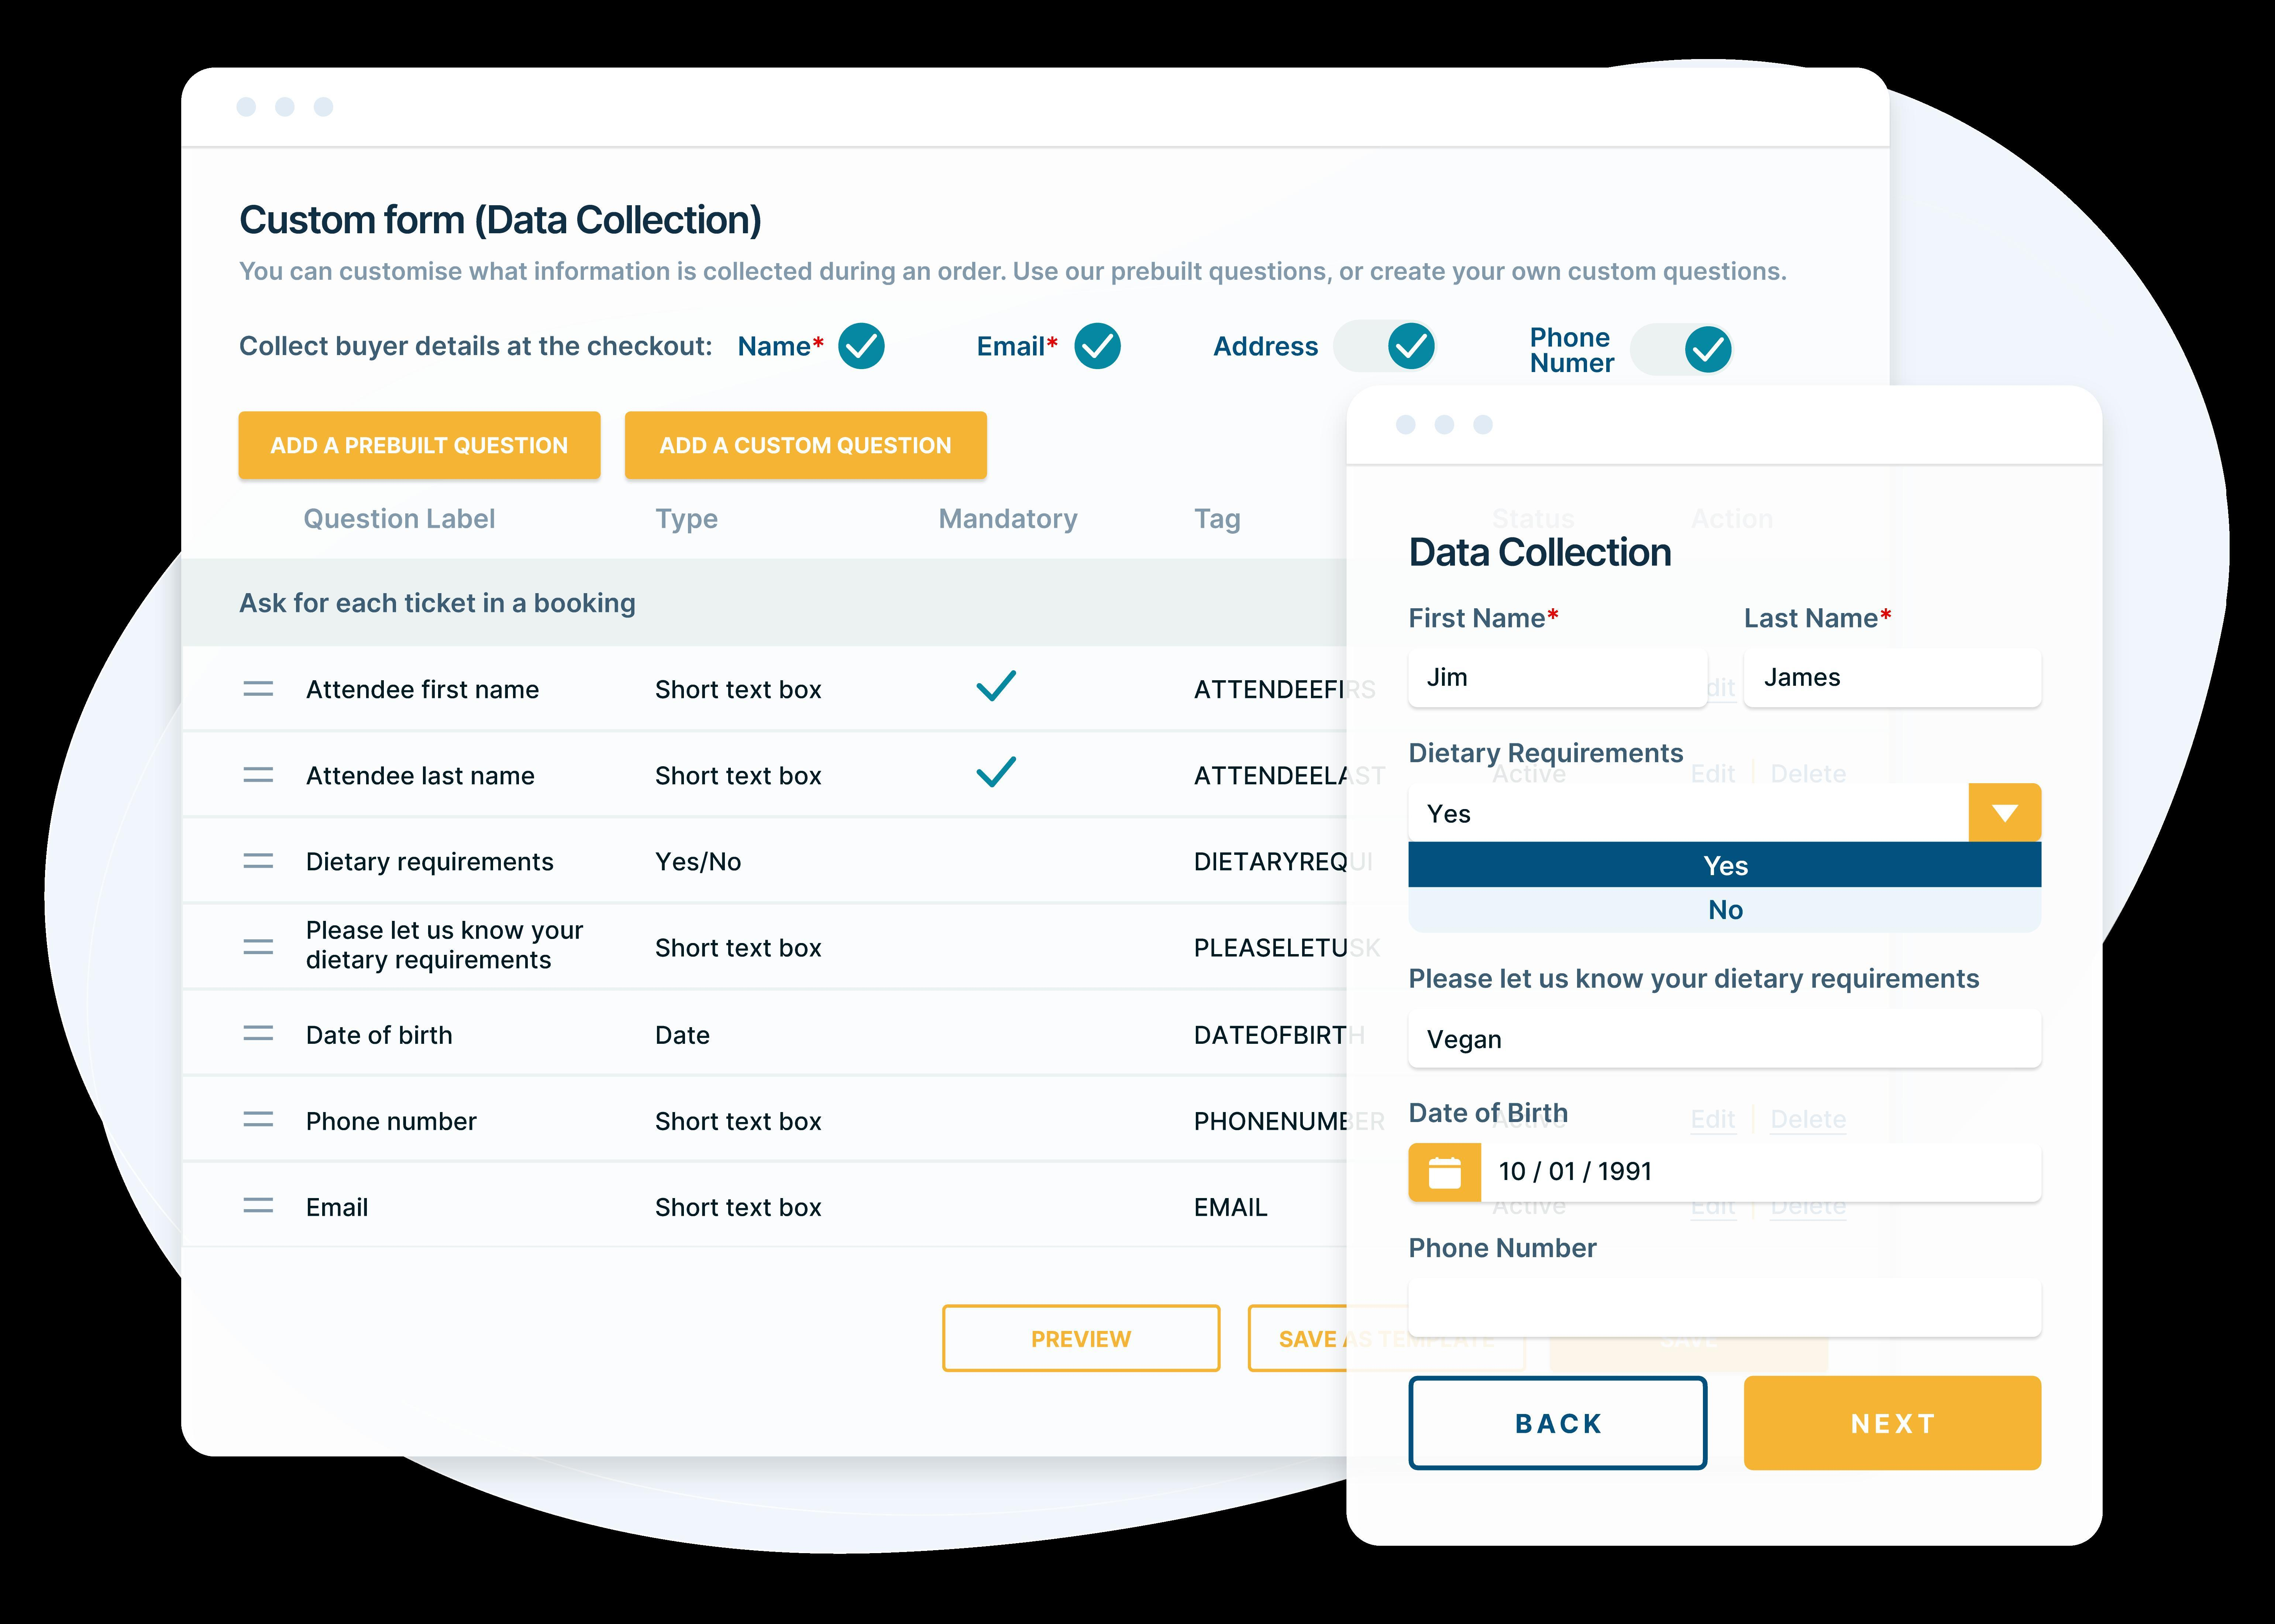button: (627, 408, 993, 489), (1407, 1378, 1711, 1471), (1748, 1376, 2041, 1469), (235, 411, 601, 480), (942, 1306, 1221, 1371)
checkbox: (1073, 320, 1123, 371), (836, 323, 887, 371)
dropdown: (1404, 780, 2041, 838)
input: (1407, 1267, 2043, 1341), (1407, 1005, 2045, 1072), (1407, 1142, 2043, 1204), (1725, 640, 2050, 712), (1400, 647, 1716, 715)
label: (1405, 963, 1990, 993), (241, 332, 719, 360), (1404, 738, 1688, 768), (292, 501, 502, 536), (1404, 1234, 1606, 1267), (924, 501, 1089, 538), (1395, 605, 1578, 634), (1407, 1097, 1569, 1130), (1525, 320, 1613, 376), (1743, 606, 1896, 634), (1212, 330, 1321, 362), (733, 330, 824, 367), (645, 503, 736, 536), (1191, 501, 1249, 541), (979, 334, 1056, 357)
switch: (1630, 316, 1736, 380), (1333, 316, 1435, 371)
table: (188, 562, 1346, 1248)
